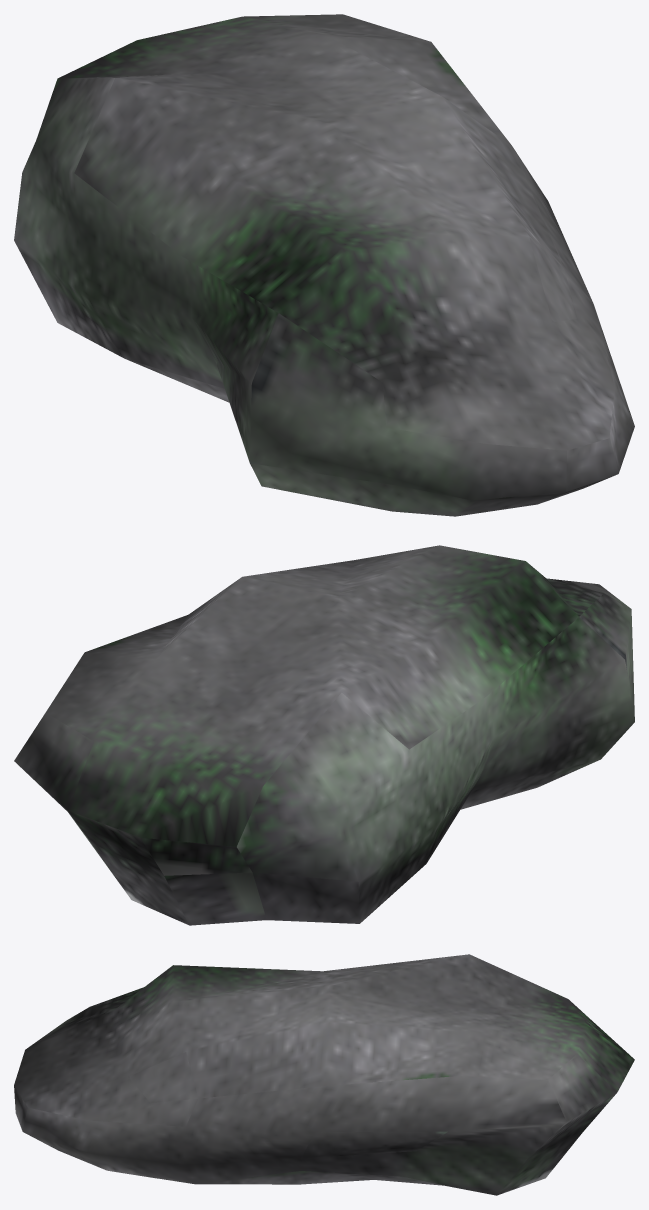
File: Rocks 10.glb
3 views of the same model, one above another, from view 1: azimuth 30°, elevation 25°; view 2: azimuth 150°, elevation 25°; view 3: azimuth 270°, elevation 25° (orthographic). The views are drawn at different scales.
Parts seen in each view (by area): view 1: Rock 10; view 2: Rock 10; view 3: Rock 10.
Part boxes in pixels (box(x1,y1,x2,y2)): Rock 10: box(14, 14, 634, 516); Rock 10: box(14, 545, 634, 925); Rock 10: box(14, 954, 634, 1195).
Size of what is drawn, in the model's own units: 1.46 by 0.8455 by 2.79.
Materials: 1 (1 with a texture image).
